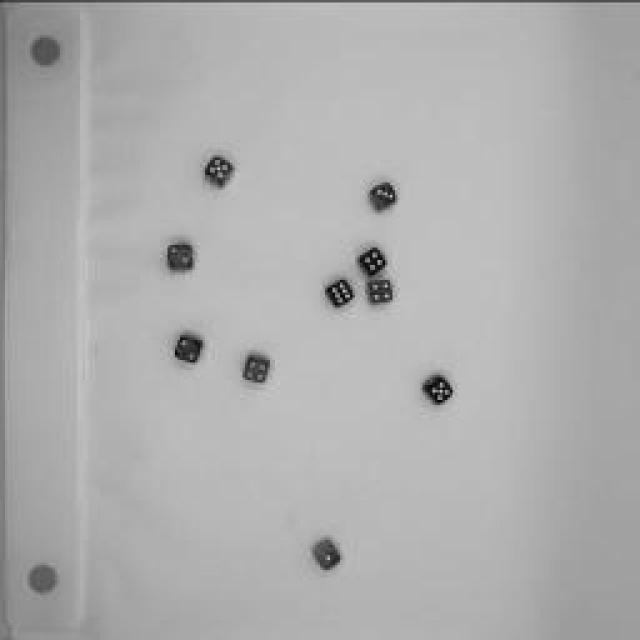dice_1: (311, 536, 344, 572)
dice_2: (165, 238, 200, 274), (172, 332, 206, 366)
dice_3: (368, 178, 400, 214)
dice_4: (241, 349, 274, 389), (356, 241, 389, 279), (364, 277, 396, 305)
dice_5: (420, 371, 458, 409), (201, 152, 239, 190)
dice_6: (324, 275, 358, 307)
